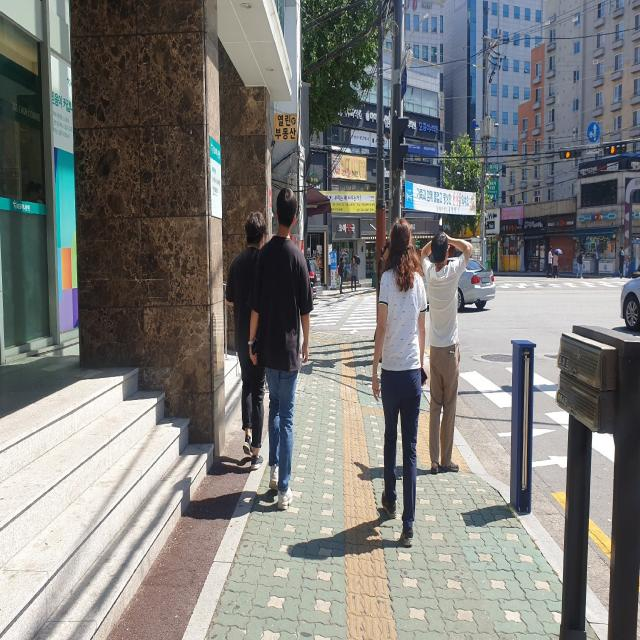횡단보도: (310, 294, 377, 335), (492, 282, 620, 288)
